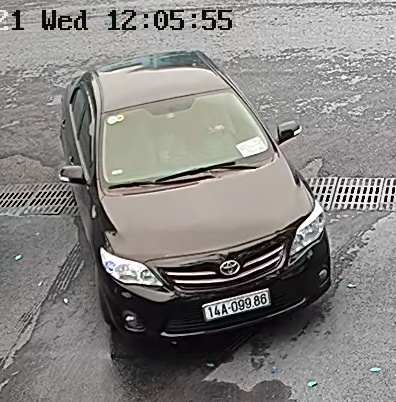vehicle plate: (193, 290, 275, 319)
